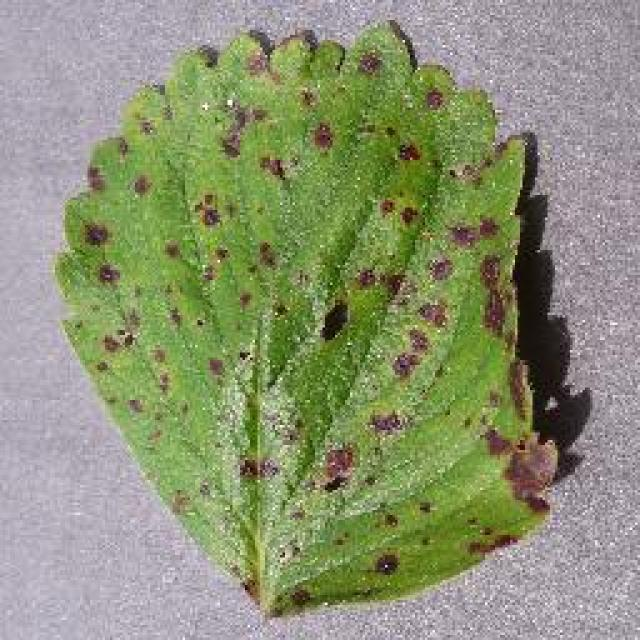Strawberry leaf scorch: (138, 105, 480, 525)
